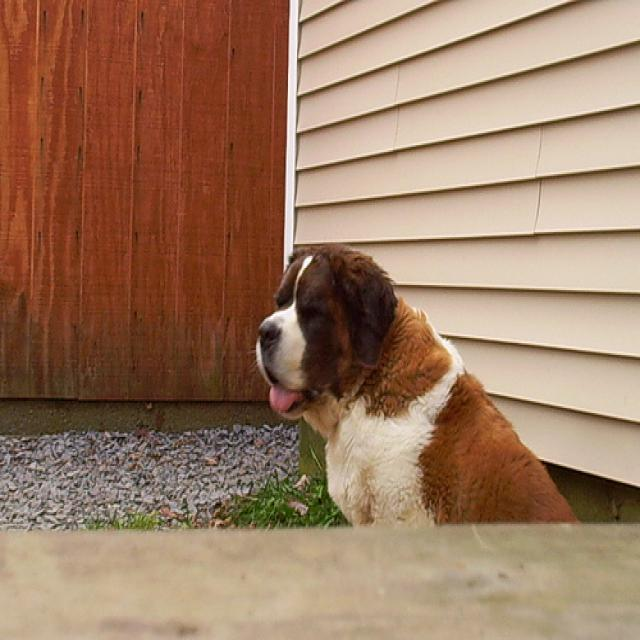dog-saint_bernard: (248, 232, 576, 534)
